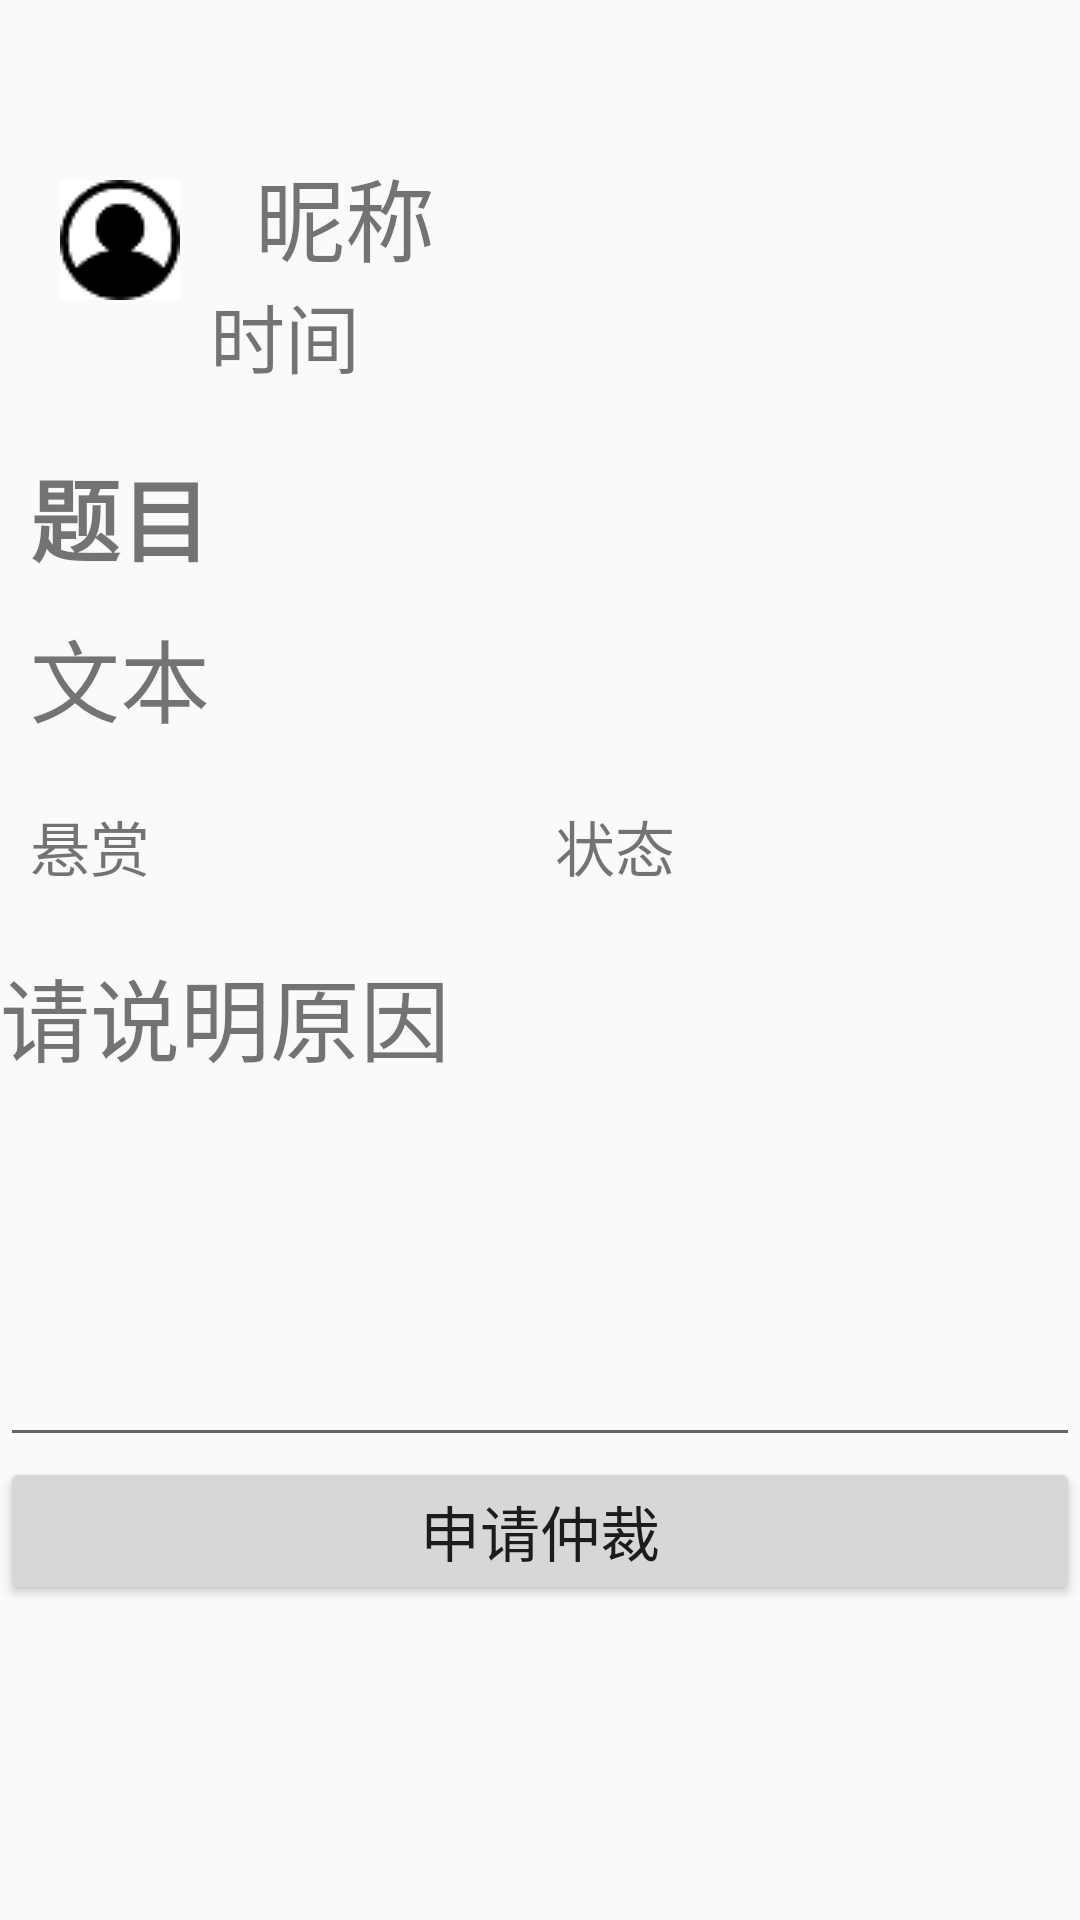

Icons on this 1080px×1920px Android screen, each with the point to tap as (x,y):
defaulthead: (120,240)
